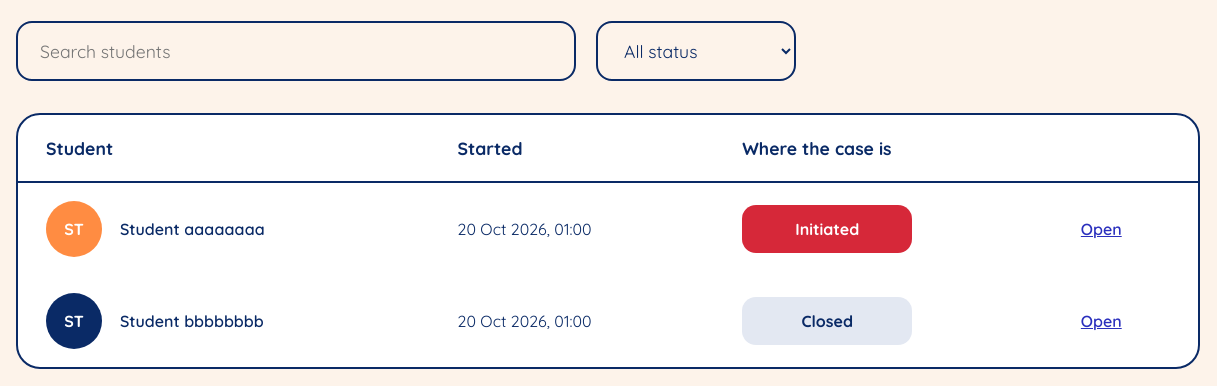
CasesTable › filters by status
Step 1. Select "Closed" in the dropdown named "Filter by status" → [696, 51], box [596,21,796,81]
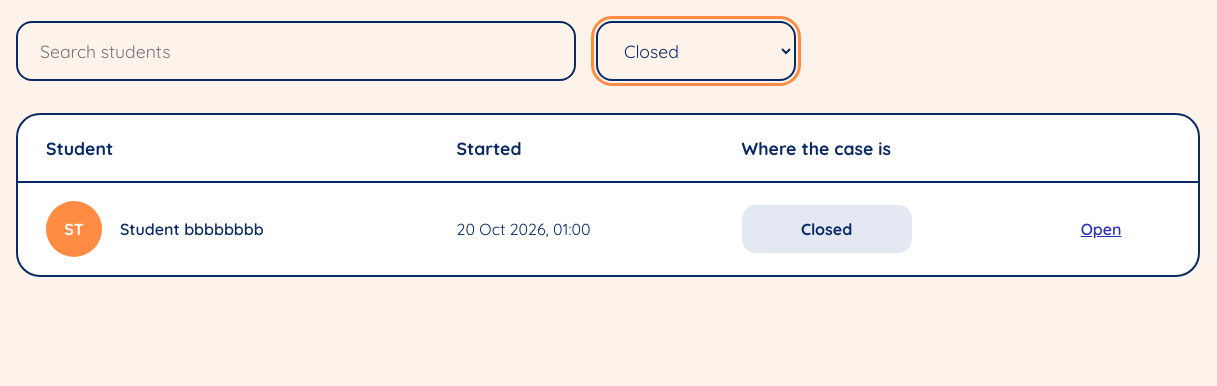
Expected: the number of rows is 2, [18,115,1198,182]; [18,182,1198,275]
